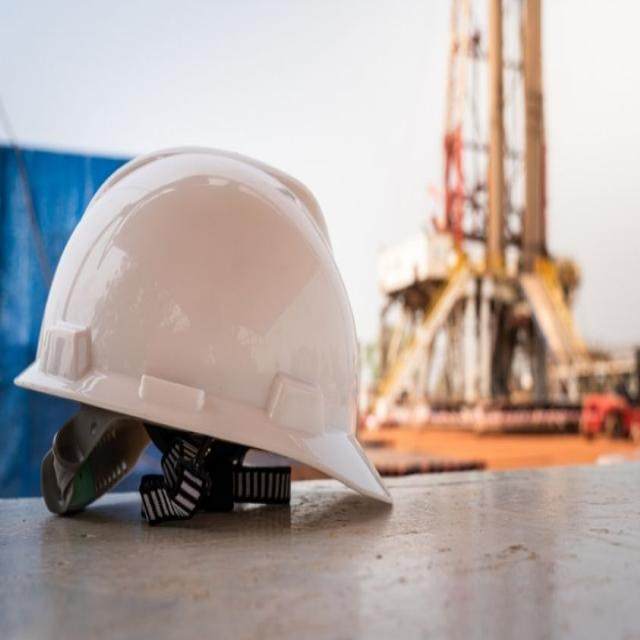helmet: (13, 91, 416, 554)
